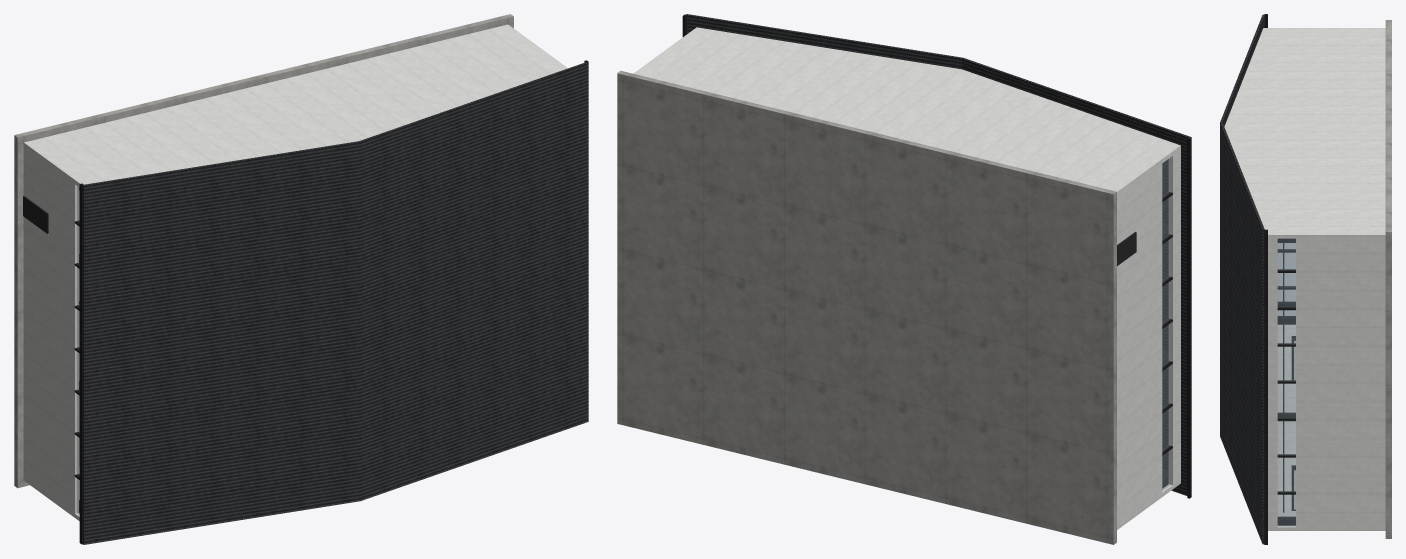
File: galpao.obj
3 views of the same model, side by side, from view 1: azimuth 30°, elevation 25°; view 2: azimuth 150°, elevation 25°; view 3: azimuth 270°, elevation 25° (orthographic). The views are drawn at different scales.
Parts seen in each view (by area): view 1: Telhado, Paredes, Piso, Janelas; view 2: Piso, Paredes, Telhado, Janelas, Estrutura; view 3: Paredes, Telhado, Janelas, Piso, Estrutura.
Part boxes in pixels (<box>): Telhado: <box>79,60,588,544</box>; Paredes: <box>23,24,567,520</box>; Piso: <box>14,14,513,488</box>; Janelas: <box>77,186,79,514</box>; Piso: <box>617,70,1116,544</box>; Paredes: <box>633,27,1180,529</box>; Telhado: <box>682,14,1191,498</box>; Janelas: <box>1162,157,1170,490</box>; Estrutura: <box>1162,159,1172,488</box>; Paredes: <box>1224,28,1385,530</box>; Telhado: <box>1220,14,1267,544</box>; Janelas: <box>1277,239,1295,526</box>; Piso: <box>1385,20,1391,538</box>; Estrutura: <box>1277,238,1295,525</box>.
Size of the model in its own units: 25.12 by 17 by 8.42.
Materials: 11 (11 with a texture image).
